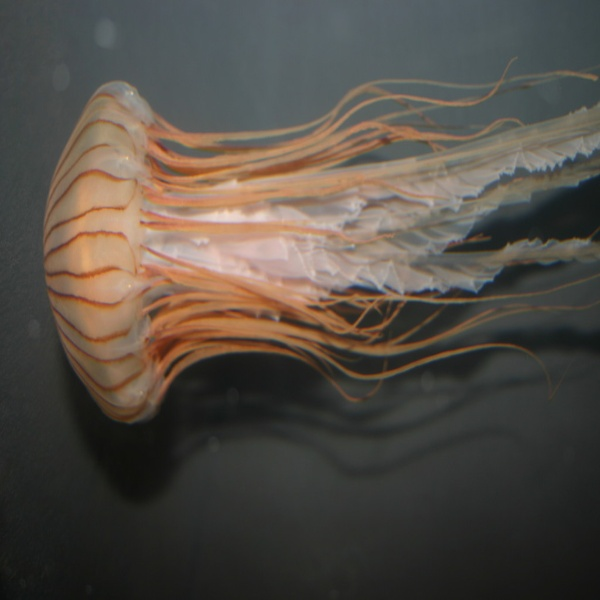Jellyfish: (23, 60, 600, 524)
